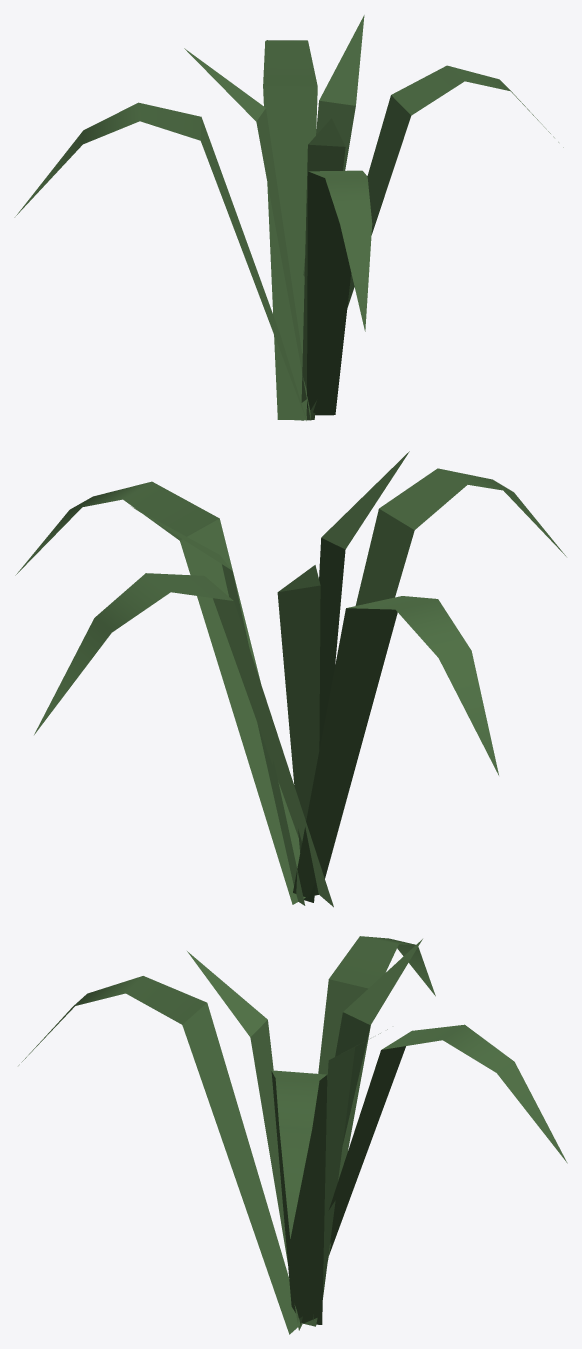
Rendered from grass_06.fbx.
The picture shows the model from 3 angles, top to bottom: view 1: azimuth 30°, elevation 25°; view 2: azimuth 150°, elevation 25°; view 3: azimuth 270°, elevation 25°; orthographic projection. The views are drawn at different scales.
Visible parts, largest first — view 1: grass_06; view 2: grass_06; view 3: grass_06.
Boxes of the visible parts, x1,y1,x2,y2 form: grass_06: [14, 15, 563, 420]; grass_06: [15, 451, 566, 907]; grass_06: [18, 936, 567, 1334].
Bounding box in the file's own units: 84.56 × 58.71 × 81.46.
